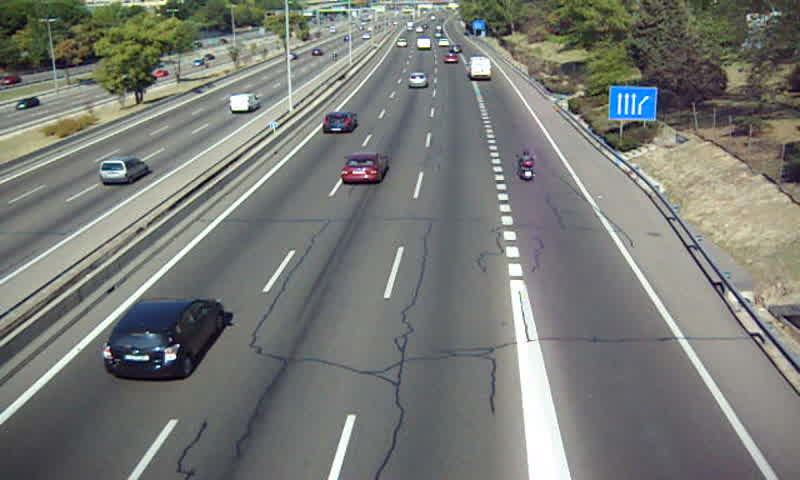car: (101, 297, 224, 379), (339, 153, 387, 186), (320, 112, 357, 134), (406, 72, 426, 88), (440, 53, 459, 66), (394, 38, 408, 45)
motorcycle: (516, 149, 539, 184)
van: (466, 56, 493, 80), (416, 38, 430, 50)
